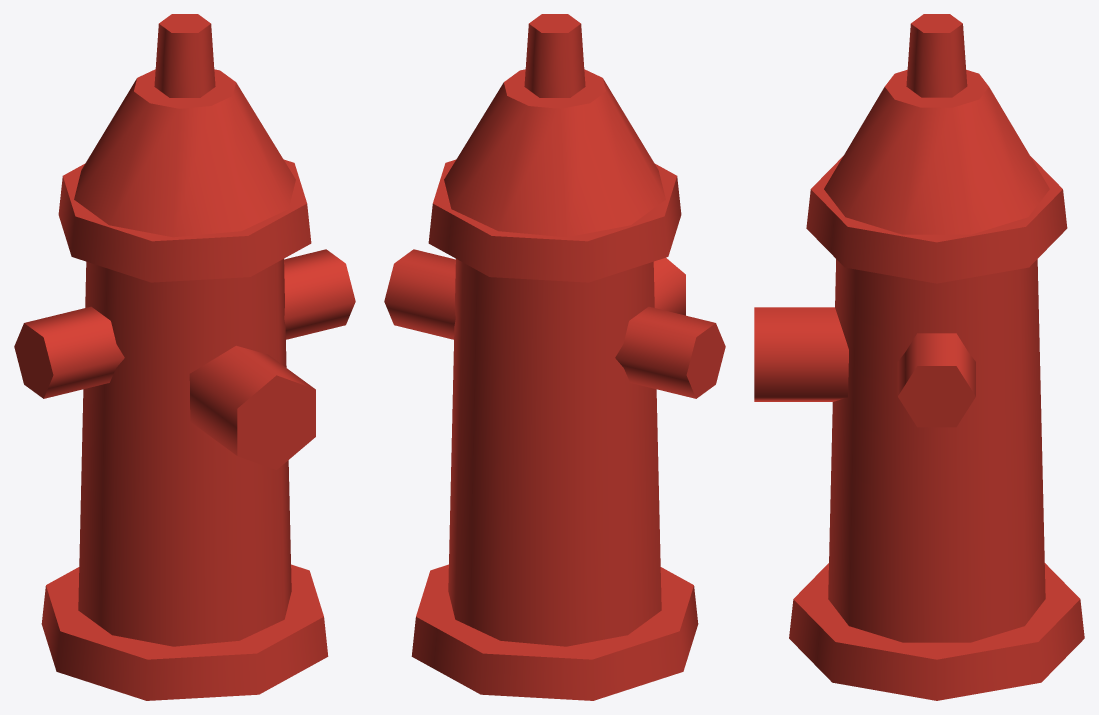
File: prop_hydrant.glb
3 views of the same model, side by side, from view 1: azimuth 30°, elevation 25°; view 2: azimuth 150°, elevation 25°; view 3: azimuth 270°, elevation 25° (orthographic).
Parts seen in each view (by area): view 1: prop.hydrant; view 2: prop.hydrant; view 3: prop.hydrant.
Part boxes in pixels (box(x1,y1,x2,y2)): prop.hydrant: box(14, 14, 355, 700); prop.hydrant: box(384, 14, 725, 700); prop.hydrant: box(754, 14, 1084, 700).
Bounding box in the file's own units: 0.4 × 0.78 × 0.38.
